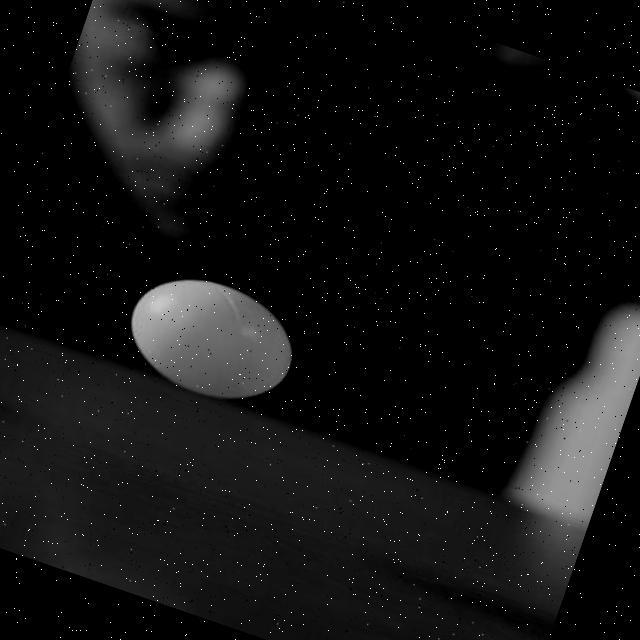ping-pong-ball: (114, 259, 308, 421)
